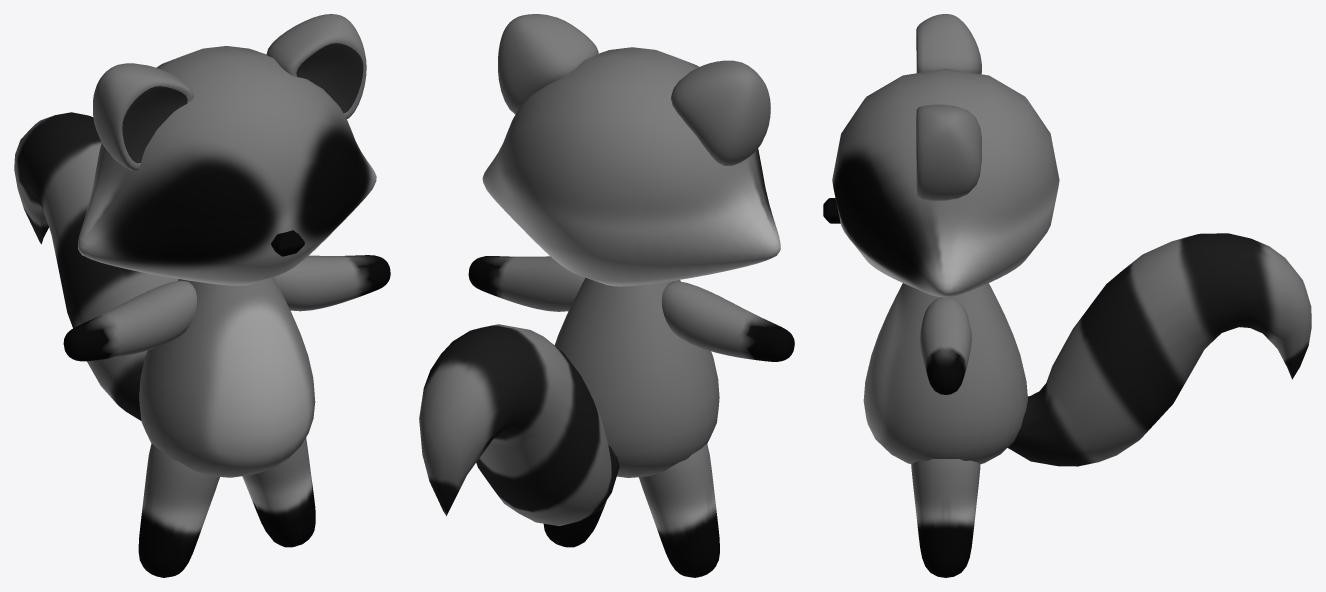
The model's file is mapache.fbx.
3 views of the same model, side by side, from view 1: azimuth 30°, elevation 25°; view 2: azimuth 150°, elevation 25°; view 3: azimuth 270°, elevation 25° (orthographic). The views are drawn at different scales.
Visible parts, largest first — view 1: Cabeza1, Plane, Cola, Cube, Plane.002, Plane.001, Cube.001; view 2: Cabeza1, Cola, Plane, Cube, Plane.001, Plane.002; view 3: Cola, Cabeza1, Plane, Cube, Plane.002, Plane.001.
Boxes of the visible parts, x1,y1,x2,y2 form: Cabeza1: [78, 46, 376, 285]; Plane: [139, 277, 315, 477]; Cola: [14, 112, 178, 420]; Cube: [93, 14, 366, 170]; Plane.002: [138, 437, 315, 577]; Plane.001: [63, 255, 390, 361]; Cube.001: [271, 230, 304, 256]; Cabeza1: [482, 47, 780, 286]; Cola: [419, 324, 619, 525]; Plane: [554, 277, 719, 477]; Cube: [498, 14, 770, 165]; Plane.001: [468, 256, 794, 361]; Plane.002: [543, 444, 719, 577]; Cola: [1008, 233, 1311, 466]; Cabeza1: [832, 68, 1059, 297]; Plane: [863, 283, 1027, 464]; Cube: [916, 14, 981, 201]; Plane.002: [911, 459, 980, 577]; Plane.001: [920, 297, 971, 394].
Bounding box in the file's own units: 301 × 463 × 424.
8 materials, 5 textured.
